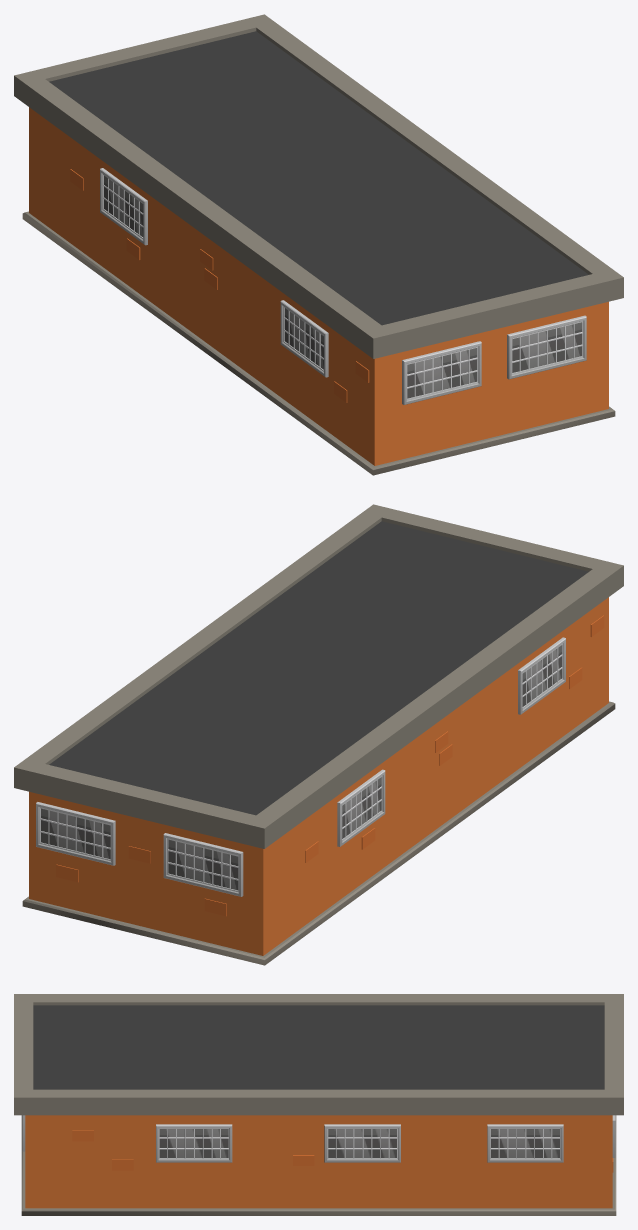
File: Building_22_3_C.fbx
The picture shows the model from 3 angles, top to bottom: view 1: azimuth 30°, elevation 25°; view 2: azimuth 150°, elevation 25°; view 3: azimuth 270°, elevation 25°; orthographic projection. The views are drawn at different scales.
Parts seen in each view (by area): view 1: Building_22_3_C; view 2: Building_22_3_C; view 3: Building_22_3_C.
Boxes of the visible parts, x1,y1,x2,y2 form: Building_22_3_C: [14, 14, 623, 475]; Building_22_3_C: [14, 504, 623, 965]; Building_22_3_C: [14, 994, 623, 1215].
Bounding box in the file's own units: 1247 × 672 × 3099.
